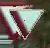Give way: (0, 1, 45, 42)
